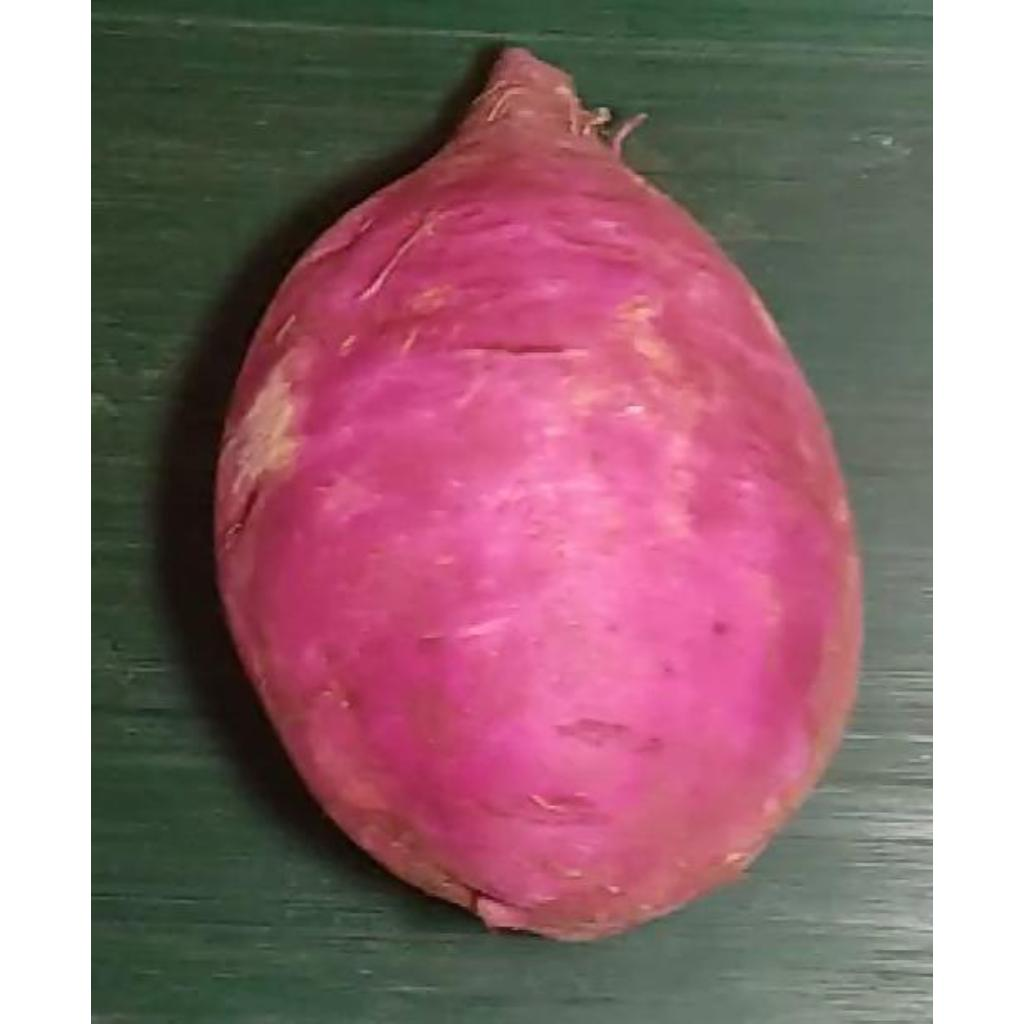Sweet Potato: (215, 50, 867, 947)
